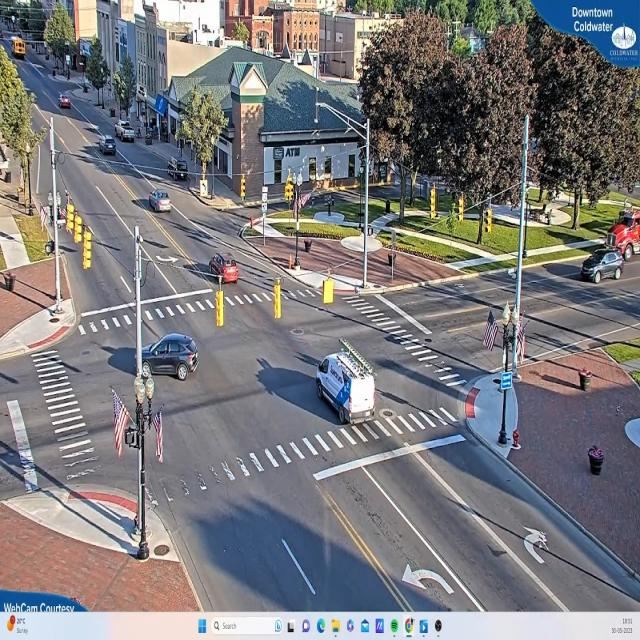car: (133, 335, 200, 380), (578, 251, 624, 283), (209, 254, 237, 288), (100, 139, 116, 155), (59, 95, 70, 109)
truck: (316, 340, 382, 430)
